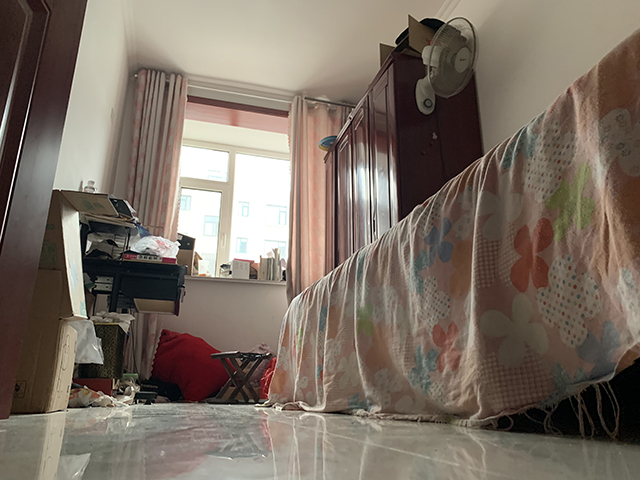bed: (253, 25, 640, 443)
curtain: (107, 66, 190, 384), (285, 95, 332, 297)
stool: (205, 350, 274, 407)
